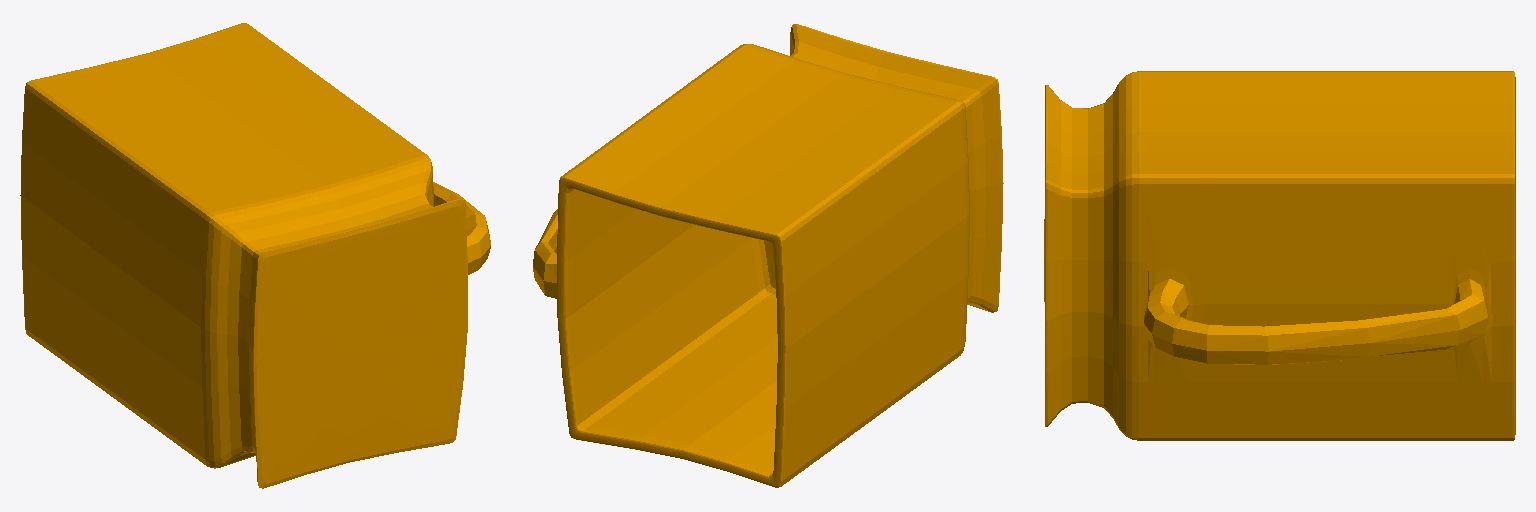
URDF robot description (134):
<?xml version="1.0" ?>
<robot name="134">
  <link name="body">
    <visual>
      <geometry>
        <mesh filename="../shapes/134.obj"/>
      </geometry>
    </visual>
    <collision>
      <geometry>
        <mesh filename="../shapes/134.obj"/>
      </geometry>
    </collision>
  </link>
</robot>

--- Render facts (derived) ---
Views: 3 orthographic renders of the robot side by side, from view 1: azimuth 30°, elevation 25°; view 2: azimuth 150°, elevation 25°; view 3: azimuth 270°, elevation 25°.
Model 134 with 1 links and 0 joints (none), rooted at body, posed every joint at zero.
Links seen in each view (by area): view 1: body; view 2: body; view 3: body.
Boxes of the visible links, box(x1,y1,x2,y2) form: body: box(20, 23, 490, 488); body: box(533, 24, 1003, 487); body: box(1044, 71, 1515, 440).
Bounding box of the posed robot: 3.38 × 4.11 × 2.61 m (x, y, z).
1 mesh visuals loaded from 1 distinct referenced files (1 OBJ).